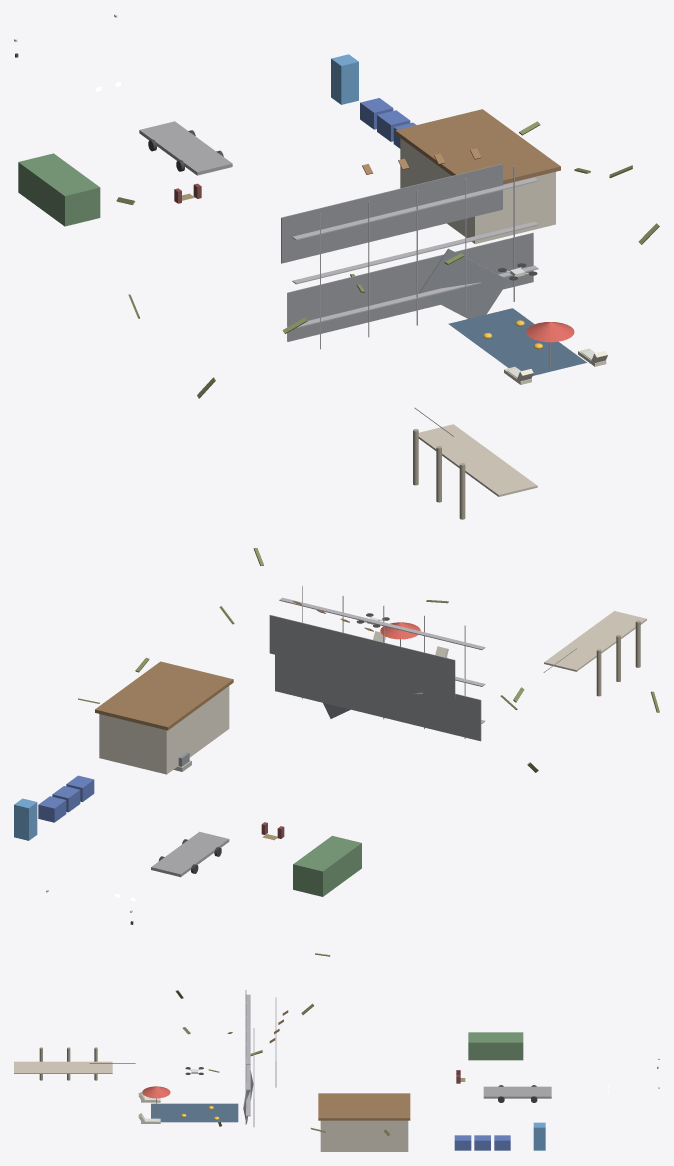
Rendered from casa-props.glb.
3 views of the same model, one above another, from view 1: azimuth 30°, elevation 25°; view 2: azimuth 150°, elevation 25°; view 3: azimuth 270°, elevation 25° (orthographic). The views are drawn at different scales.
Visible parts, largest first — view 1: prep_on/shutter|MI_shutter, prep_off+storm_c1+storm_c3+storm_ts/shutter|MI_shutter, ren_after/roof|MI_soffit, ren_after/addition|MI_stucco, ren_during/scaffold|MI_scaffold, prep_on/cover|MI_poolcover, ren_during/dumpster|MI_dumpster, ren_after/dock|MI_deck, storm_c3/shutter|MI_shutter, mar_trailer+prep_on/trailer|MI_steel, ren_during/materials|MI_tarp, ren_during/materials|MI_toilet (+3 smaller); view 2: prep_on/shutter|MI_shutter, prep_off+storm_c1+storm_c3+storm_ts/shutter|MI_shutter, ren_after/addition|MI_stucco, ren_after/roof|MI_soffit, ren_during/dumpster|MI_dumpster, ren_after/dock|MI_deck, mar_trailer+prep_on/trailer|MI_steel, ren_during/materials|MI_tarp, ren_during/scaffold|MI_scaffold, ren_during/materials|MI_toilet, ren_after+ren_during/piling|MI_piling, storm_c1+storm_c3/debris|MI_debris; view 3: ren_after/addition|MI_stucco, ren_after/roof|MI_soffit, prep_on/cover|MI_poolcover, ren_during/dumpster|MI_dumpster, ren_after/dock|MI_deck, mar_trailer+prep_on/trailer|MI_steel, ren_during/materials|MI_tarp, ren_during/scaffold|MI_scaffold, ren_during/materials|MI_toilet, storm_c1+storm_c3/debris|MI_debris.
Part boxes in pixels (x1,y1,x2,y2): prep_on/shutter|MI_shutter: (297,167,517,337); prep_off+storm_c1+storm_c3+storm_ts/shutter|MI_shutter: (281,163,533,341); ren_after/roof|MI_soffit: (395,109,560,184); ren_after/addition|MI_stucco: (400,138,555,243); ren_during/scaffold|MI_scaffold: (292,166,538,349); prep_on/cover|MI_poolcover: (448,308,586,375); ren_during/dumpster|MI_dumpster: (18,153,100,226); ren_after/dock|MI_deck: (418,424,537,496); storm_c3/shutter|MI_shutter: (419,248,508,318); mar_trailer+prep_on/trailer|MI_steel: (139,121,232,175); ren_during/materials|MI_tarp: (360,98,416,148); ren_during/materials|MI_toilet: (331,54,358,104); prep_on/shutter|MI_shutter: (283,618,467,737); prep_off+storm_c1+storm_c3+storm_ts/shutter|MI_shutter: (269,615,481,741); ren_after/addition|MI_stucco: (99,686,229,774); ren_after/roof|MI_soffit: (95,661,233,730); ren_during/dumpster|MI_dumpster: (293,835,361,896); ren_after/dock|MI_deck: (544,611,646,671); mar_trailer+prep_on/trailer|MI_steel: (151,831,229,877); ren_during/materials|MI_tarp: (38,775,94,822); ren_during/scaffold|MI_scaffold: (279,585,485,738); ren_during/materials|MI_toilet: (14,798,37,840); ren_after+ren_during/piling|MI_piling: (596,620,640,696); storm_c1+storm_c3/debris|MI_debris: (78,548,659,772); ren_after/addition|MI_stucco: (320,1120,408,1151); ren_after/roof|MI_soffit: (318,1093,410,1120); prep_on/cover|MI_poolcover: (151,1103,238,1122); ren_during/dumpster|MI_dumpster: (468,1032,523,1060); ren_after/dock|MI_deck: (14,1061,112,1073); mar_trailer+prep_on/trailer|MI_steel: (483,1086,551,1098); ren_during/materials|MI_tarp: (454,1135,510,1150); ren_during/scaffold|MI_scaffold: (245,990,250,1124); ren_during/materials|MI_toilet: (533,1122,545,1150); storm_c1+storm_c3/debris|MI_debris: (175,953,390,1135).
Size of the model in its own units: 32.07 by 10.2 by 58.99.
